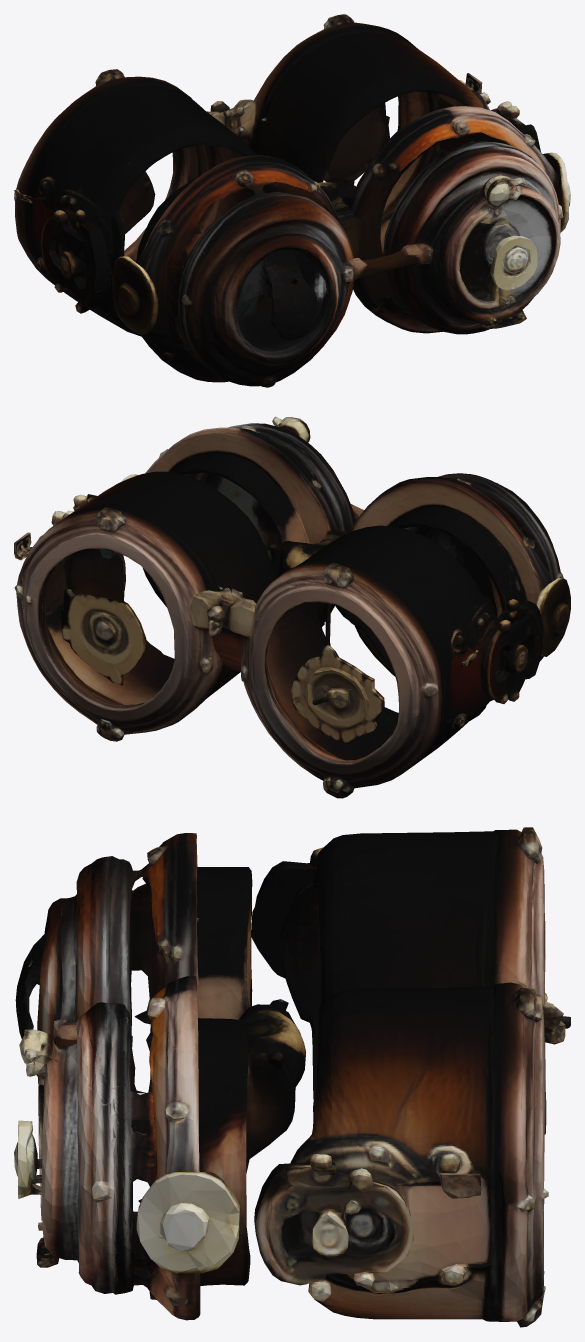
Rendered from wooden-steampunk-goggles-futuristic.jpeg.glb.
3 views of the same model, one above another, from view 1: azimuth 30°, elevation 25°; view 2: azimuth 150°, elevation 25°; view 3: azimuth 270°, elevation 25° (orthographic). The views are drawn at different scales.
Parts seen in each view (by area): view 1: world; view 2: world; view 3: world.
Boxes of the visible parts, x1,y1,x2,y2 form: world: [14, 14, 570, 387]; world: [14, 416, 570, 798]; world: [14, 827, 570, 1327].
Bounding box in the file's own units: 0.9999 × 0.4868 × 0.7355.
Materials: 1 (1 with a texture image).
